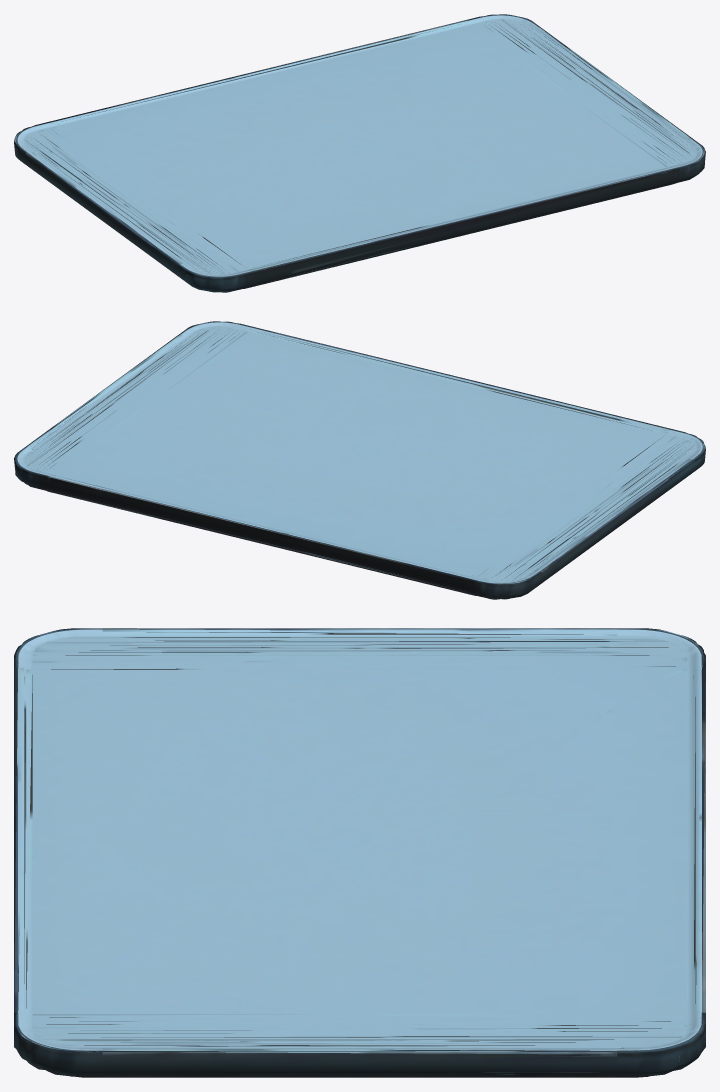
File: tablet.glb
3 renders of one model, top to bottom at view 1: azimuth 30°, elevation 25°; view 2: azimuth 150°, elevation 25°; view 3: azimuth 270°, elevation 25°, orthographic. The views are drawn at different scales.
Size of the model in its own units: 1.91 by 0.0822 by 1.31.
1 material, 1 textured.
